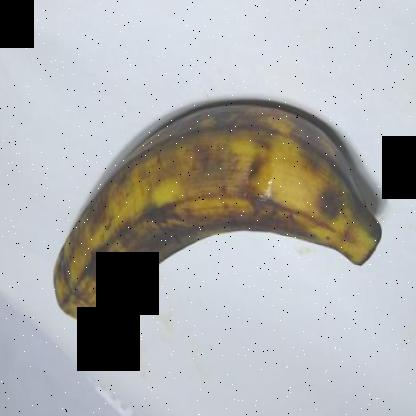overripe: (42, 81, 385, 326)
